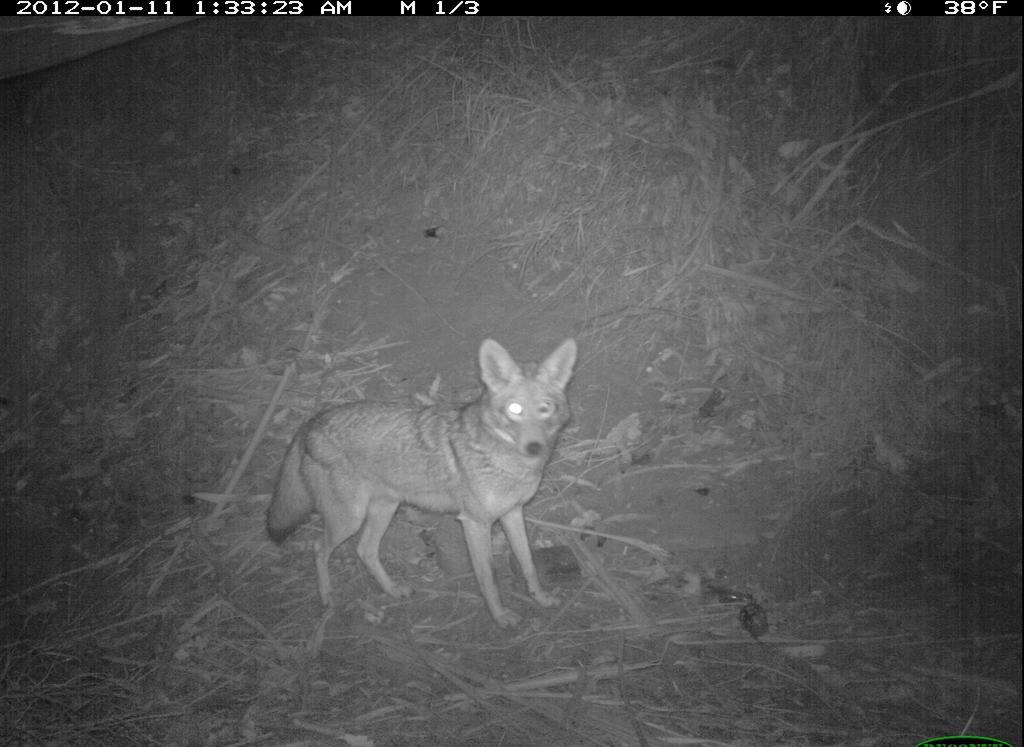coyote: (263, 328, 583, 635)
